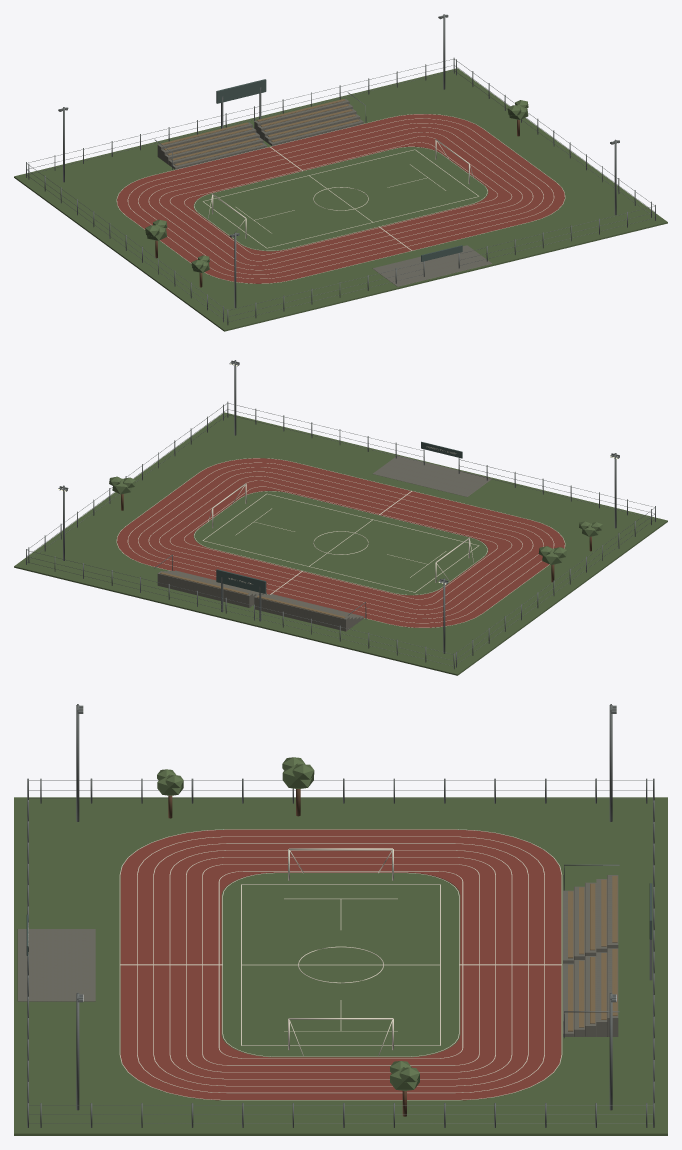
The model's file is track_field.glb.
3 views of the same model, one above another, from view 1: azimuth 30°, elevation 25°; view 2: azimuth 150°, elevation 25°; view 3: azimuth 270°, elevation 25° (orthographic). The views are drawn at different scales.
Parts seen in each view (by area): view 1: DD_track_field; view 2: DD_track_field; view 3: DD_track_field.
Boxes of the visible parts, <box> form: DD_track_field: <box>14,14,667,331</box>; DD_track_field: <box>14,360,667,675</box>; DD_track_field: <box>14,704,667,1135</box>.
Bounding box in the file's own units: 56 × 9.16 × 46.
11 materials, 6 textured.
